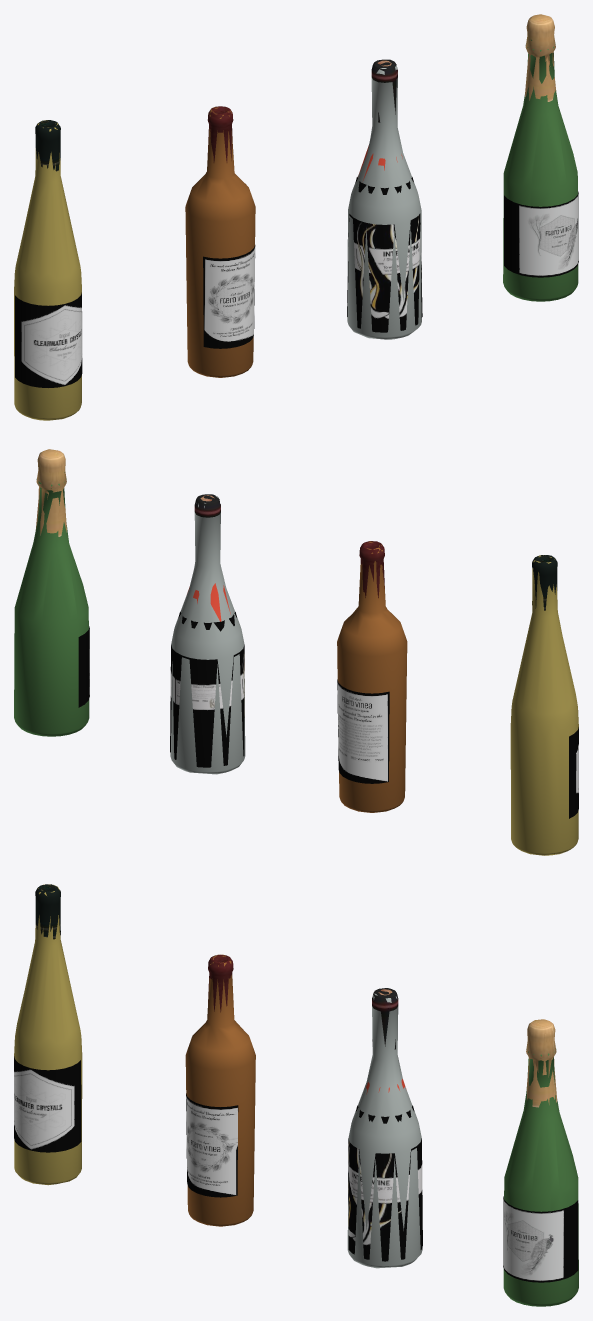
The model's file is wino_butelki.glb.
3 renders of one model, top to bottom at view 1: azimuth 30°, elevation 25°; view 2: azimuth 150°, elevation 25°; view 3: azimuth 330°, elevation 25°, orthographic.
Visible parts, largest first — view 1: wine_bottles_01_burgundy_977862, wine_bottles_01_bordeaux_5d0f05, wine_bottles_01_alsace_61be4b, wine_bottles_01_champagne_fba7f2, wine_bottles_01_alsace_defe74, wine_bottles_01_burgundy_6c5b63, wine_bottles_01_champagne_69ca48, wine_bottles_01_bordeaux_10293b, wine_bottles_01_champagne_c09322, wine_bottles_01_alsace_73c198, wine_bottles_01_bordeaux_64945d, wine_bottles_01_burgundy_8bae3e; view 2: wine_bottles_01_alsace_61be4b, wine_bottles_01_champagne_fba7f2, wine_bottles_01_burgundy_977862, wine_bottles_01_bordeaux_5d0f05, wine_bottles_01_bordeaux_10293b, wine_bottles_01_burgundy_6c5b63, wine_bottles_01_champagne_c09322, wine_bottles_01_alsace_73c198, wine_bottles_01_bordeaux_64945d, wine_bottles_01_champagne_69ca48, wine_bottles_01_alsace_defe74, wine_bottles_01_burgundy_8bae3e; view 3: wine_bottles_01_burgundy_977862, wine_bottles_01_bordeaux_5d0f05, wine_bottles_01_alsace_61be4b, wine_bottles_01_champagne_fba7f2, wine_bottles_01_alsace_defe74, wine_bottles_01_champagne_69ca48, wine_bottles_01_bordeaux_10293b, wine_bottles_01_burgundy_6c5b63, wine_bottles_01_champagne_c09322, wine_bottles_01_alsace_73c198, wine_bottles_01_bordeaux_64945d, wine_bottles_01_burgundy_8bae3e.
Part boxes in pixels (bbox=[...]): wine_bottles_01_burgundy_977862: bbox=[347, 60, 421, 339]; wine_bottles_01_bordeaux_5d0f05: bbox=[185, 107, 255, 377]; wine_bottles_01_alsace_61be4b: bbox=[14, 120, 81, 420]; wine_bottles_01_champagne_fba7f2: bbox=[503, 39, 578, 301]; wine_bottles_01_alsace_defe74: bbox=[15, 292, 82, 387]; wine_bottles_01_burgundy_6c5b63: bbox=[347, 177, 422, 332]; wine_bottles_01_champagne_69ca48: bbox=[504, 191, 578, 277]; wine_bottles_01_bordeaux_10293b: bbox=[203, 245, 255, 348]; wine_bottles_01_champagne_c09322: bbox=[525, 14, 556, 101]; wine_bottles_01_alsace_73c198: bbox=[35, 120, 60, 171]; wine_bottles_01_bordeaux_64945d: bbox=[207, 106, 233, 162]; wine_bottles_01_burgundy_8bae3e: bbox=[371, 59, 397, 122]; wine_bottles_01_alsace_61be4b: bbox=[510, 555, 578, 855]; wine_bottles_01_champagne_fba7f2: bbox=[14, 472, 89, 736]; wine_bottles_01_burgundy_977862: bbox=[170, 496, 245, 774]; wine_bottles_01_bordeaux_5d0f05: bbox=[337, 541, 407, 812]; wine_bottles_01_bordeaux_10293b: bbox=[337, 679, 389, 783]; wine_bottles_01_burgundy_6c5b63: bbox=[170, 612, 244, 767]; wine_bottles_01_champagne_c09322: bbox=[35, 449, 66, 536]; wine_bottles_01_alsace_73c198: bbox=[532, 555, 557, 610]; wine_bottles_01_bordeaux_64945d: bbox=[359, 541, 384, 598]; wine_bottles_01_champagne_69ca48: bbox=[78, 626, 89, 707]; wine_bottles_01_alsace_defe74: bbox=[569, 727, 578, 818]; wine_bottles_01_burgundy_8bae3e: bbox=[194, 494, 220, 517]; wine_bottles_01_burgundy_977862: bbox=[347, 993, 422, 1268]; wine_bottles_01_bordeaux_5d0f05: bbox=[185, 954, 255, 1226]; wine_bottles_01_alsace_61be4b: bbox=[14, 884, 82, 1185]; wine_bottles_01_champagne_fba7f2: bbox=[503, 1049, 578, 1306]; wine_bottles_01_alsace_defe74: bbox=[14, 1056, 81, 1152]; wine_bottles_01_champagne_69ca48: bbox=[503, 1196, 578, 1282]; wine_bottles_01_bordeaux_10293b: bbox=[186, 1093, 238, 1197]; wine_bottles_01_burgundy_6c5b63: bbox=[348, 1105, 422, 1261]; wine_bottles_01_champagne_c09322: bbox=[526, 1019, 557, 1107]; wine_bottles_01_alsace_73c198: bbox=[35, 884, 60, 939]; wine_bottles_01_bordeaux_64945d: bbox=[208, 954, 233, 1012]; wine_bottles_01_burgundy_8bae3e: bbox=[372, 988, 398, 1049].
Bounding box in the file's own units: 0.6763 × 0.3314 × 0.0805.
12 materials, 9 textured.
